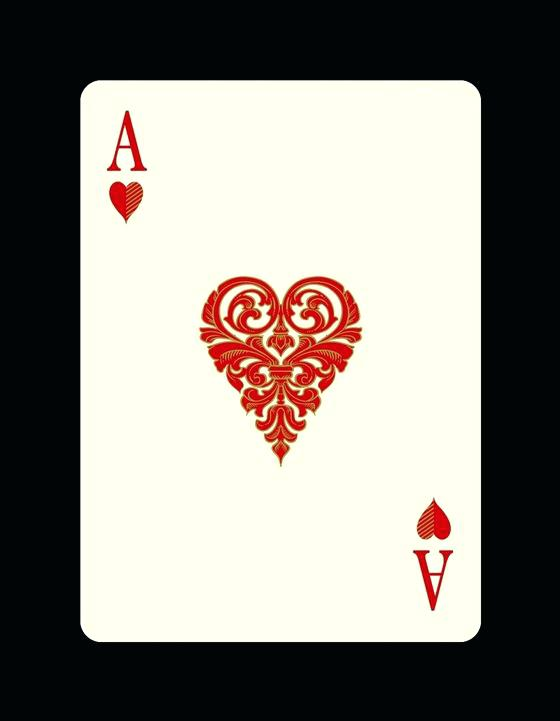ace of hearts: (78, 79, 478, 641)
